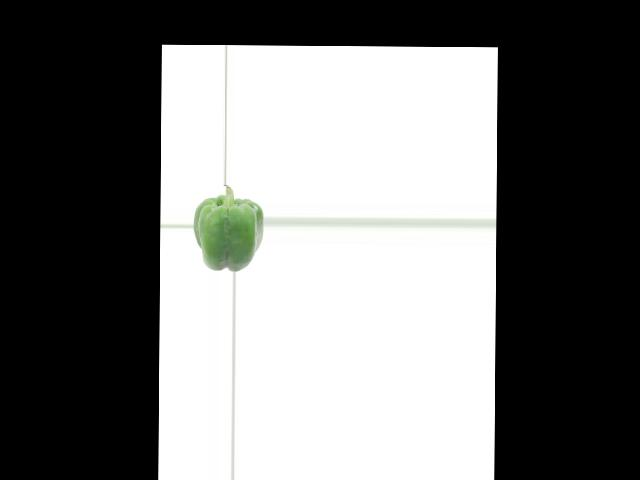bell_pepper: (193, 186, 262, 272)
